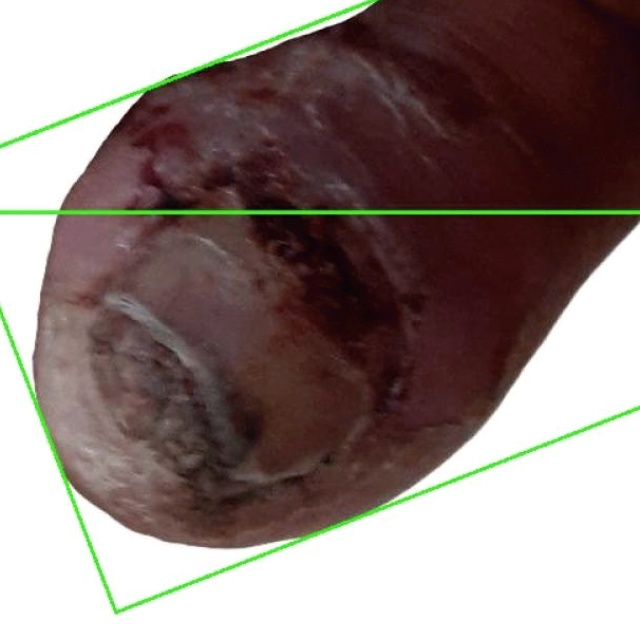Contact Dermatitis: (0, 0, 639, 611), (0, 212, 639, 639)
